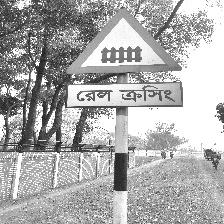Rail-crossing: (66, 8, 185, 110)
